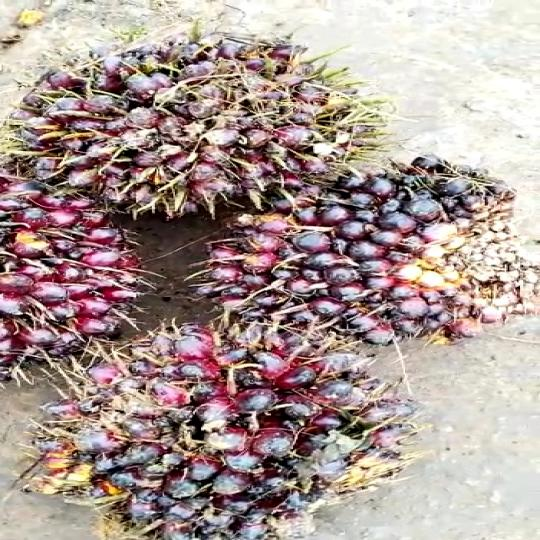kurang masak: (5, 314, 443, 540), (162, 144, 517, 338), (17, 30, 354, 229), (0, 166, 185, 364)
